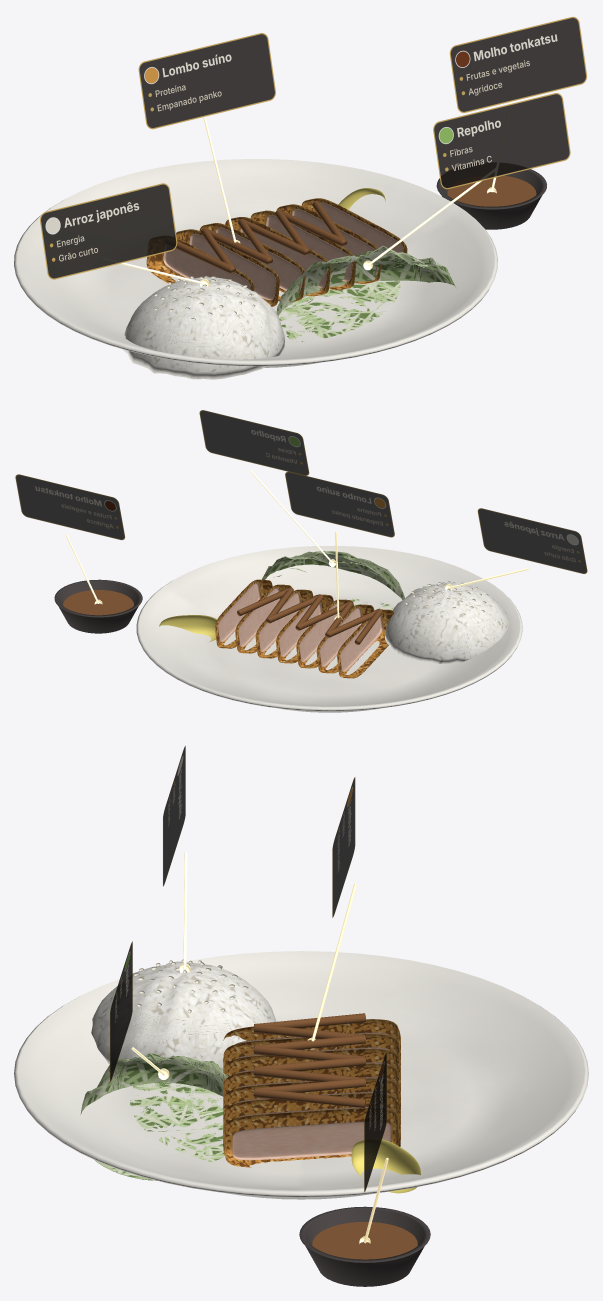
The model's file is tonkatsu.glb.
The picture shows the model from 3 angles, top to bottom: view 1: azimuth 30°, elevation 25°; view 2: azimuth 150°, elevation 25°; view 3: azimuth 270°, elevation 25°; orthographic projection. The views are drawn at different scales.
Visible parts, largest first — view 1: dish; view 2: dish; view 3: dish.
Part boxes in pixels (left/top/right/bottom): dish: left=14, top=16, right=586, bottom=379; dish: left=15, top=410, right=587, bottom=712; dish: left=14, top=746, right=588, bottom=1286.
Size of the model in its own units: 0.405 by 0.1492 by 0.2713.
14 materials, 9 textured.
